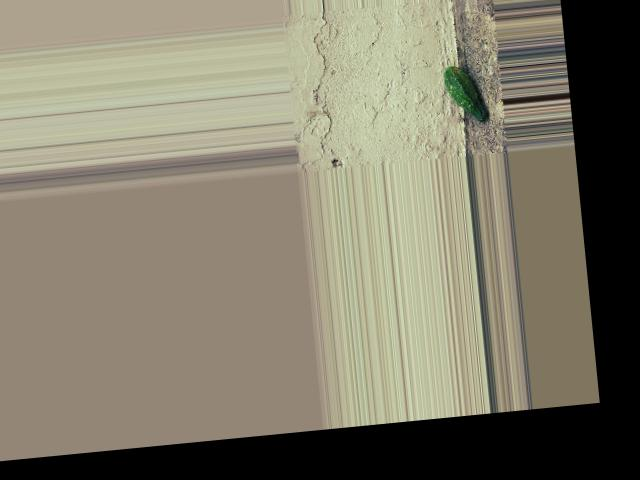cucumber: (442, 63, 488, 124)
